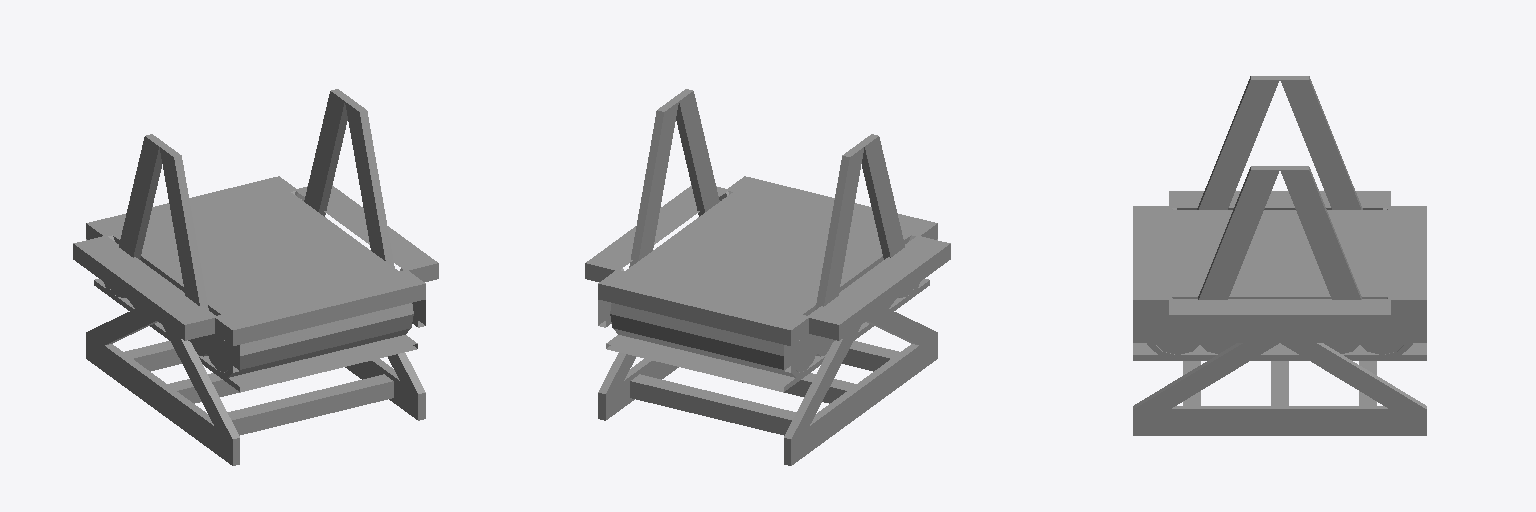
The model's file is conveyor_wood.obj.
3 views of the same model, side by side, from view 1: azimuth 30°, elevation 25°; view 2: azimuth 150°, elevation 25°; view 3: azimuth 270°, elevation 25° (orthographic).
Visible parts, largest first — view 1: Support_Wood_smdl_wood, ConveyorSupportAbove_Wood_samdl_wood, ConveyorStraightEnd_csmdl, ConveyorRoundEnd_crmdl, ConveyorStraightBegin_csmdl, ConveyorRightCap_Wood_cecmdl_wood, ConveyorRoundEndCap_Wood_cecmdl_wood, ConveyorLeftCap_Wood_cecmdl_wood, ConveyorRoundBeginCap_Wood_cecmdl_wood, ConveyorRoundBegin_crmdl, ConveyorStraightEnd_Framing_Wood_csfmdl_wood; view 2: Support_Wood_smdl_wood, ConveyorSupportAbove_Wood_samdl_wood, ConveyorRoundBegin_crmdl, ConveyorStraightBegin_csmdl, ConveyorRightCap_Wood_cecmdl_wood, ConveyorRoundBeginCap_Wood_cecmdl_wood, ConveyorStraightEnd_csmdl, ConveyorRoundEnd_crmdl, ConveyorRoundEndCap_Wood_cecmdl_wood, ConveyorLeftCap_Wood_cecmdl_wood, ConveyorStraightBegin_Framing_Wood_csfmdl_wood; view 3: ConveyorSupportAbove_Wood_samdl_wood, Support_Wood_smdl_wood, ConveyorLeftCap_Wood_cecmdl_wood, ConveyorRoundEnd_crmdl, ConveyorStraightBegin_csmdl, ConveyorRoundBegin_crmdl, ConveyorRoundEndCap_Wood_cecmdl_wood, ConveyorRoundBeginCap_Wood_cecmdl_wood, ConveyorStraightEnd_Framing_Wood_csfmdl_wood, ConveyorStraightEnd_csmdl, ConveyorRightCap_Wood_cecmdl_wood, ConveyorRoundBegin_Framing_Wood_crfmdl_wood (+1 smaller).
Part boxes in pixels (x1,y1,x2,y2): Support_Wood_smdl_wood: (86, 307, 425, 465); ConveyorSupportAbove_Wood_samdl_wood: (119, 89, 394, 309); ConveyorStraightEnd_csmdl: (167, 232, 417, 392); ConveyorRoundEnd_crmdl: (173, 233, 413, 377); ConveyorStraightBegin_csmdl: (94, 180, 343, 337); ConveyorRightCap_Wood_cecmdl_wood: (73, 236, 215, 340); ConveyorRoundEndCap_Wood_cecmdl_wood: (214, 270, 425, 345); ConveyorLeftCap_Wood_cecmdl_wood: (295, 185, 438, 281); ConveyorRoundBeginCap_Wood_cecmdl_wood: (86, 176, 301, 240); ConveyorRoundBegin_crmdl: (104, 195, 344, 335); ConveyorStraightEnd_Framing_Wood_csfmdl_wood: (188, 300, 425, 372); Support_Wood_smdl_wood: (598, 307, 937, 465); ConveyorSupportAbove_Wood_samdl_wood: (629, 89, 904, 309); ConveyorRoundBegin_crmdl: (610, 232, 856, 377); ConveyorStraightBegin_csmdl: (606, 232, 856, 392); ConveyorRightCap_Wood_cecmdl_wood: (808, 236, 950, 340); ConveyorRoundBeginCap_Wood_cecmdl_wood: (598, 270, 809, 345); ConveyorStraightEnd_csmdl: (679, 187, 929, 337); ConveyorRoundEnd_crmdl: (681, 194, 919, 331); ConveyorRoundEndCap_Wood_cecmdl_wood: (722, 176, 937, 240); ConveyorLeftCap_Wood_cecmdl_wood: (585, 185, 728, 281); ConveyorStraightBegin_Framing_Wood_csfmdl_wood: (598, 300, 835, 372); ConveyorSupportAbove_Wood_samdl_wood: (1197, 76, 1362, 299); Support_Wood_smdl_wood: (1133, 343, 1426, 435); ConveyorLeftCap_Wood_cecmdl_wood: (1169, 299, 1390, 330); ConveyorRoundEnd_crmdl: (1147, 210, 1279, 360); ConveyorStraightBegin_csmdl: (1280, 210, 1426, 360); ConveyorRoundBegin_crmdl: (1280, 210, 1412, 360); ConveyorRoundEndCap_Wood_cecmdl_wood: (1133, 206, 1172, 315); ConveyorRoundBeginCap_Wood_cecmdl_wood: (1387, 206, 1426, 315); ConveyorStraightEnd_Framing_Wood_csfmdl_wood: (1133, 316, 1279, 342); ConveyorStraightEnd_csmdl: (1133, 210, 1279, 360); ConveyorRightCap_Wood_cecmdl_wood: (1169, 191, 1390, 209); ConveyorRoundBegin_Framing_Wood_crfmdl_wood: (1280, 316, 1397, 342).
Bounding box in the file's own units: 1 × 1 × 1.